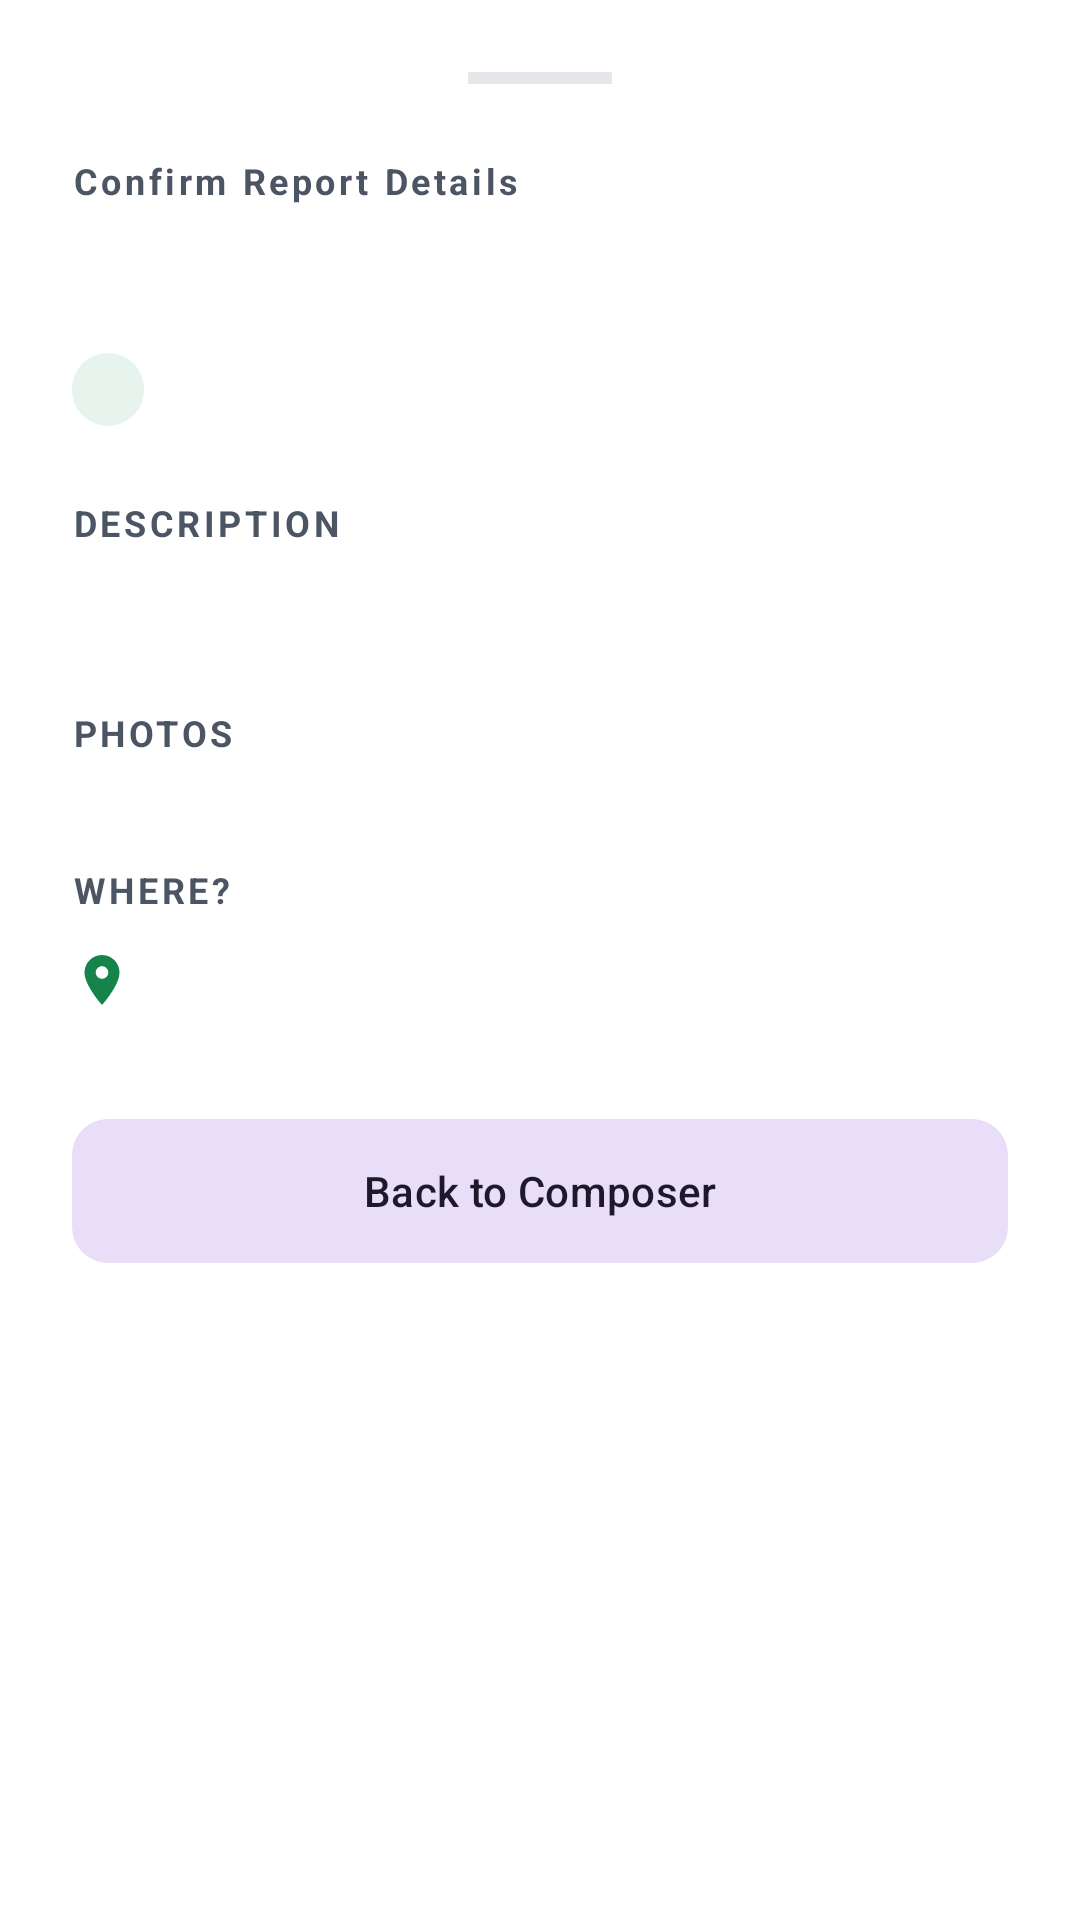

Named icons in this screenshot (1080px×1920px) and their centers, (x,y):
location: (102,980)
